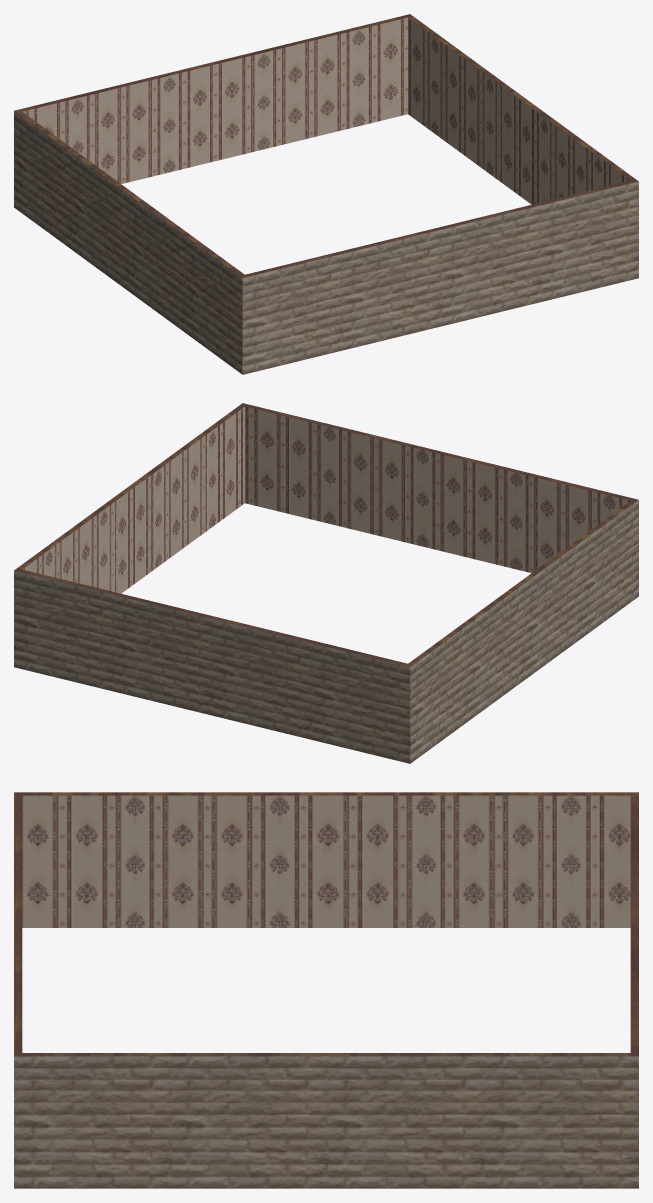
The model's file is scene_2_walls_out.dae.
3 renders of one model, top to bottom at view 1: azimuth 30°, elevation 25°; view 2: azimuth 150°, elevation 25°; view 3: azimuth 270°, elevation 25°, orthographic. The views are drawn at different scales.
Visible parts, largest first — view 1: Cube.004; view 2: Cube.004; view 3: Cube.004.
Boxes of the visible parts, x1=… form: Cube.004: x1=14, y1=14, x2=638, y2=374; Cube.004: x1=14, y1=403, x2=638, y2=763; Cube.004: x1=14, y1=792, x2=638, y2=1188.
Size of the model in its own units: 15 by 15 by 3.5.
